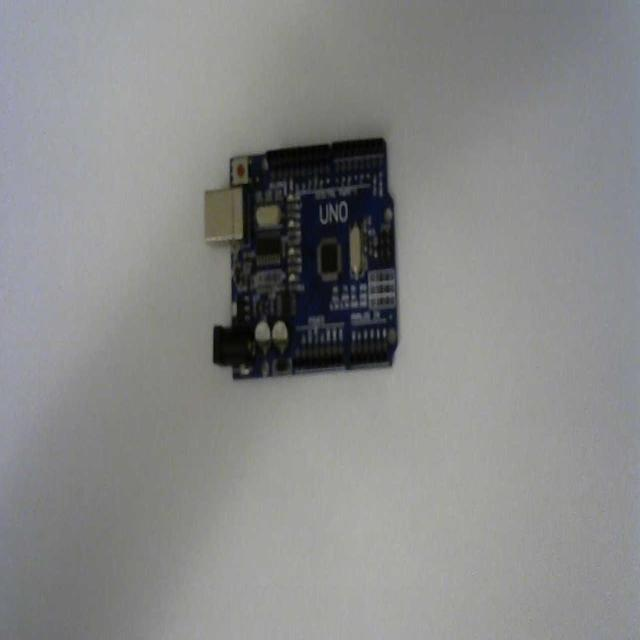arduino: (204, 135, 400, 382)
